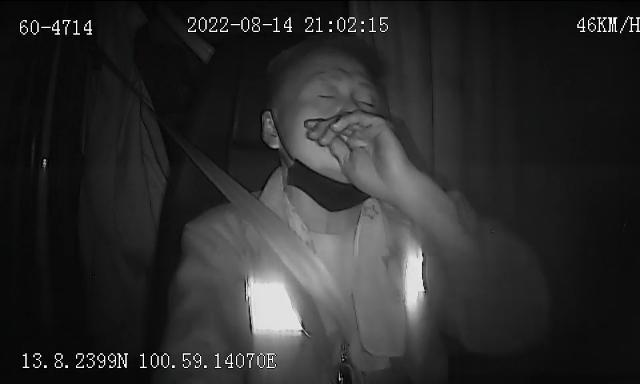Seatbelt: (198, 160, 358, 336)
